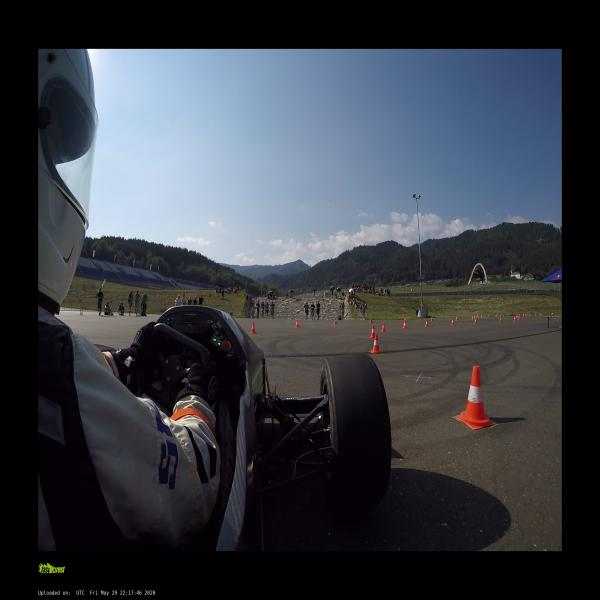orange_cone: (458, 366, 494, 428), (371, 334, 381, 353), (370, 325, 376, 338), (250, 322, 256, 333), (380, 322, 386, 332), (498, 316, 502, 323), (403, 320, 406, 329), (425, 319, 428, 327), (450, 319, 454, 325), (333, 318, 337, 324), (296, 320, 299, 327), (404, 316, 406, 323), (474, 318, 476, 324), (370, 317, 372, 323), (430, 316, 432, 321), (514, 316, 516, 321), (456, 316, 458, 321), (516, 314, 518, 319), (480, 314, 482, 317), (518, 314, 519, 320), (476, 315, 478, 318), (539, 313, 542, 315), (474, 316, 476, 318), (525, 314, 527, 316), (534, 313, 536, 315), (526, 314, 528, 316), (472, 317, 473, 320), (523, 314, 524, 316), (551, 313, 553, 314), (496, 315, 496, 317), (488, 314, 488, 317)
